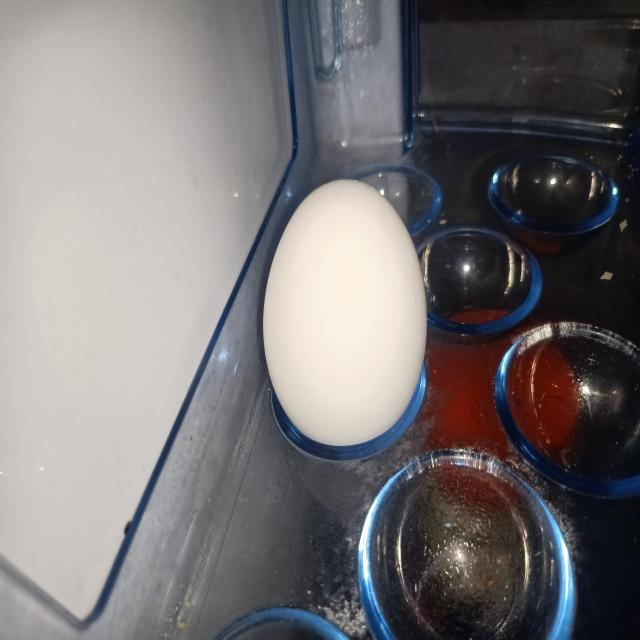Egg: (250, 172, 449, 482)
